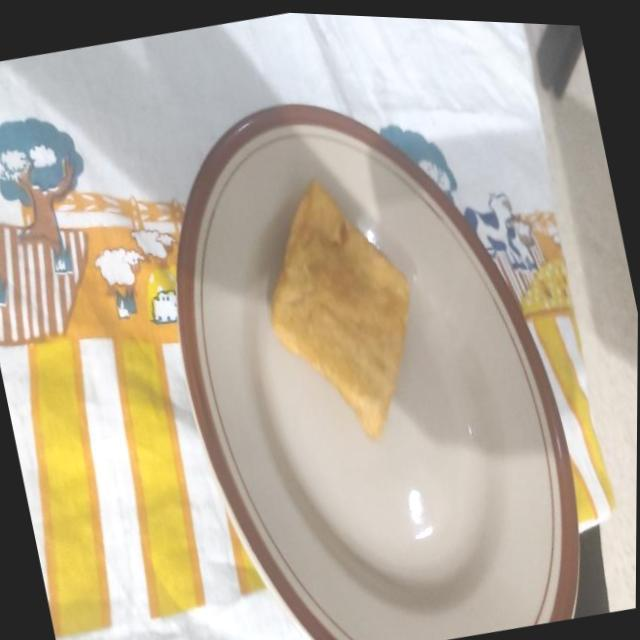tahu_goreng: (272, 180, 409, 438)
